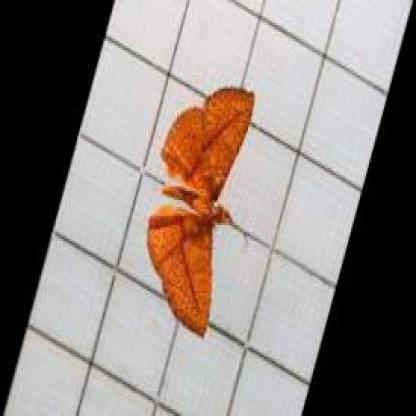Leaf Webber: (150, 89, 255, 338)
